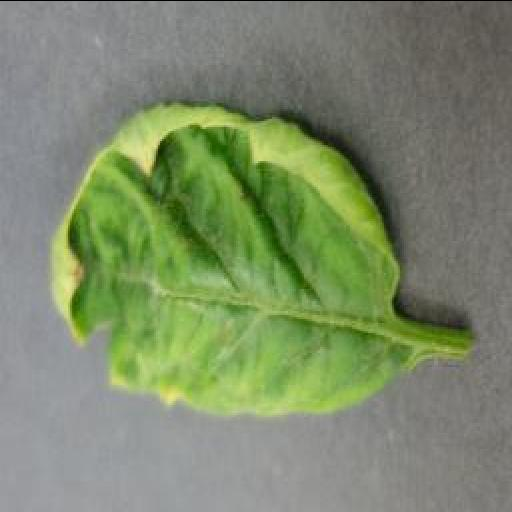disease_tomato: (46, 98, 404, 420)
